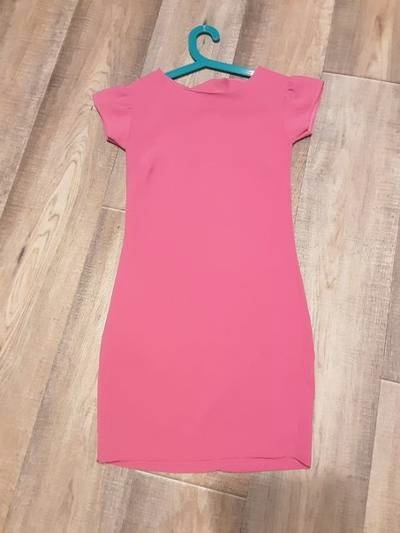Dress: (55, 48, 340, 491)
